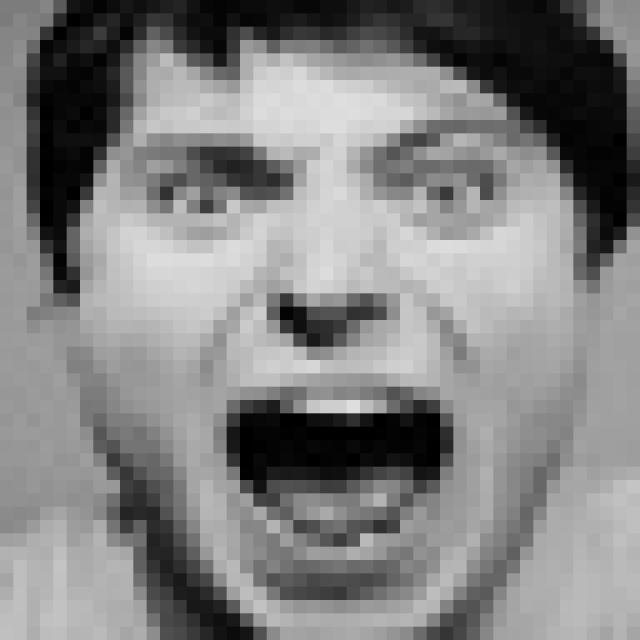angry: (125, 108, 526, 576)
